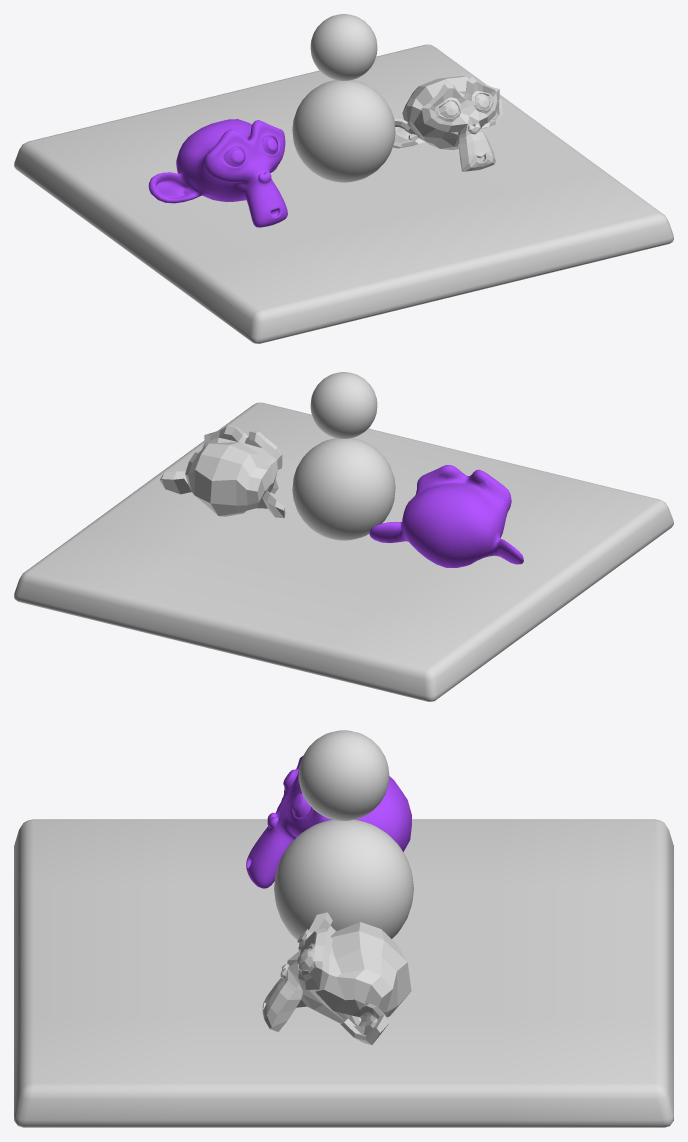
The model's file is suzan.gltf.
3 renders of one model, top to bottom at view 1: azimuth 30°, elevation 25°; view 2: azimuth 150°, elevation 25°; view 3: azimuth 270°, elevation 25°, orthographic. The views are drawn at different scales.
Visible parts, largest first — view 1: Plano, Esfera, Suzanne.001, Suzanne; view 2: Plano, Esfera, Suzanne.001, Suzanne; view 3: Plano, Esfera, Suzanne, Suzanne.001.
Boxes of the visible parts, x1=… form: Plano: x1=14, y1=44, x2=673, y2=343; Esfera: x1=292, y1=14, x2=395, y2=182; Suzanne.001: x1=148, y1=119, x2=287, y2=227; Suzanne: x1=393, y1=76, x2=502, y2=171; Plano: x1=14, y1=402, x2=673, y2=701; Esfera: x1=292, y1=372, x2=395, y2=540; Suzanne.001: x1=369, y1=465, x2=523, y2=567; Suzanne: x1=160, y1=425, x2=285, y2=518; Plano: x1=14, y1=819, x2=673, y2=1127; Esfera: x1=274, y1=730, x2=413, y2=940; Suzanne: x1=262, y1=912, x2=411, y2=1044; Suzanne.001: x1=246, y1=756, x2=411, y2=888.
Size of the model in its own units: 10.24 by 4.39 by 10.24.
Materials: 1 (1 with a texture image).
